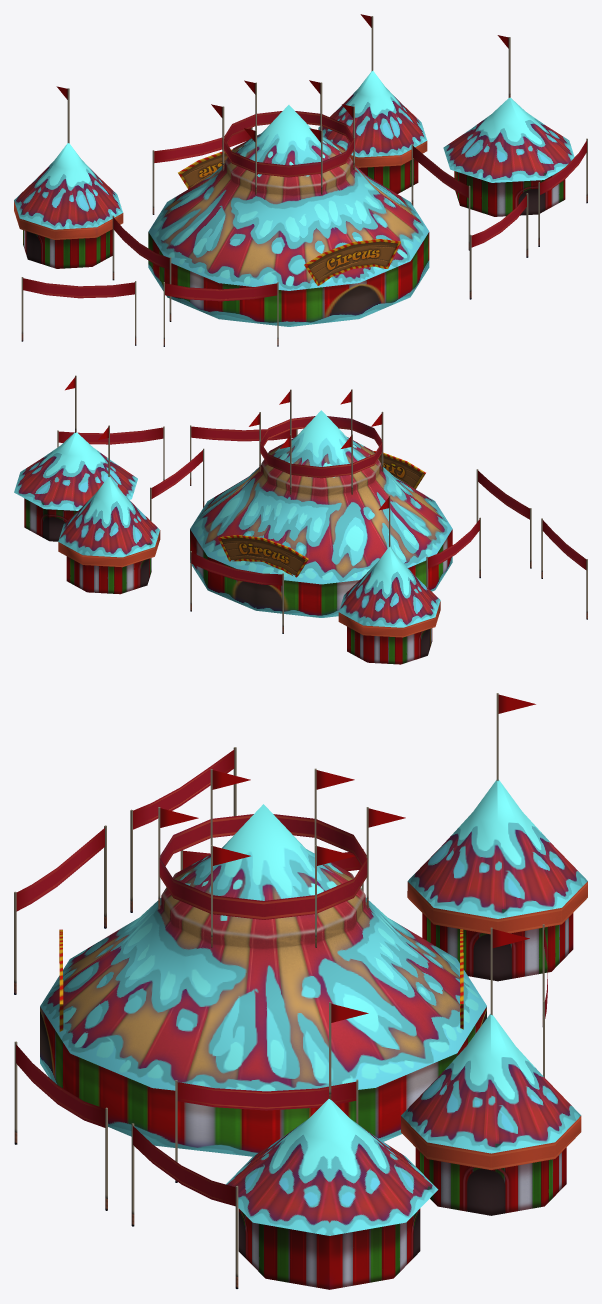
The model's file is Circus.FBX.
The picture shows the model from 3 angles, top to bottom: view 1: azimuth 30°, elevation 25°; view 2: azimuth 150°, elevation 25°; view 3: azimuth 270°, elevation 25°; orthographic projection. The views are drawn at different scales.
Visible parts, largest first — view 1: Circus; view 2: Circus; view 3: Circus.
Boxes of the visible parts, bbox=[...] form: Circus: bbox=[14, 14, 587, 346]; Circus: bbox=[14, 375, 587, 664]; Circus: bbox=[14, 693, 587, 1289].
Size of the model in its own units: 929 by 251 by 503.
Materials: 1 (1 with a texture image).
